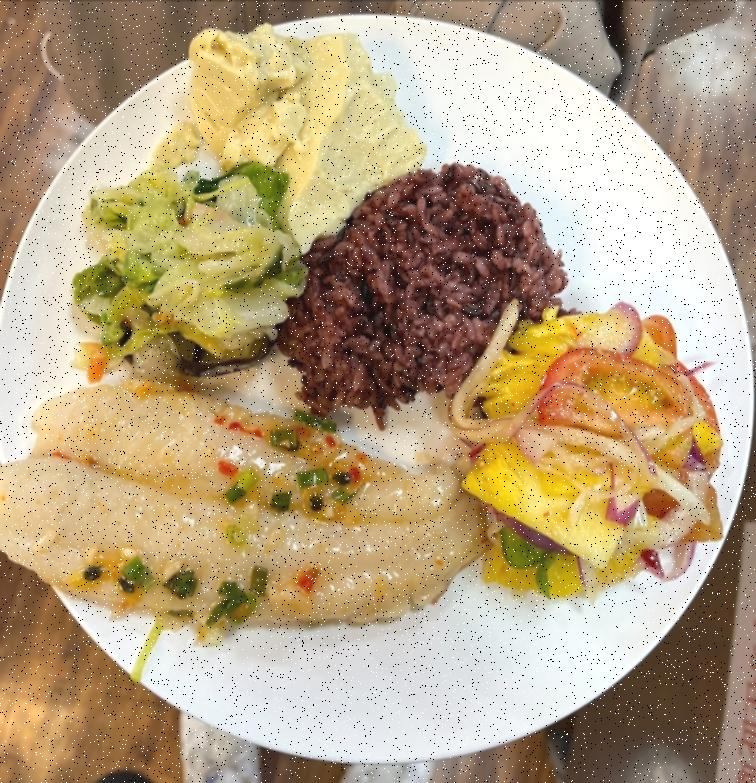big fried chicken leg: (7, 12, 756, 773)
braised fish: (283, 160, 569, 412)
braised fish fillet: (451, 306, 722, 598), (185, 22, 410, 251), (81, 161, 302, 386)
braised pork ribs: (16, 372, 497, 640)
